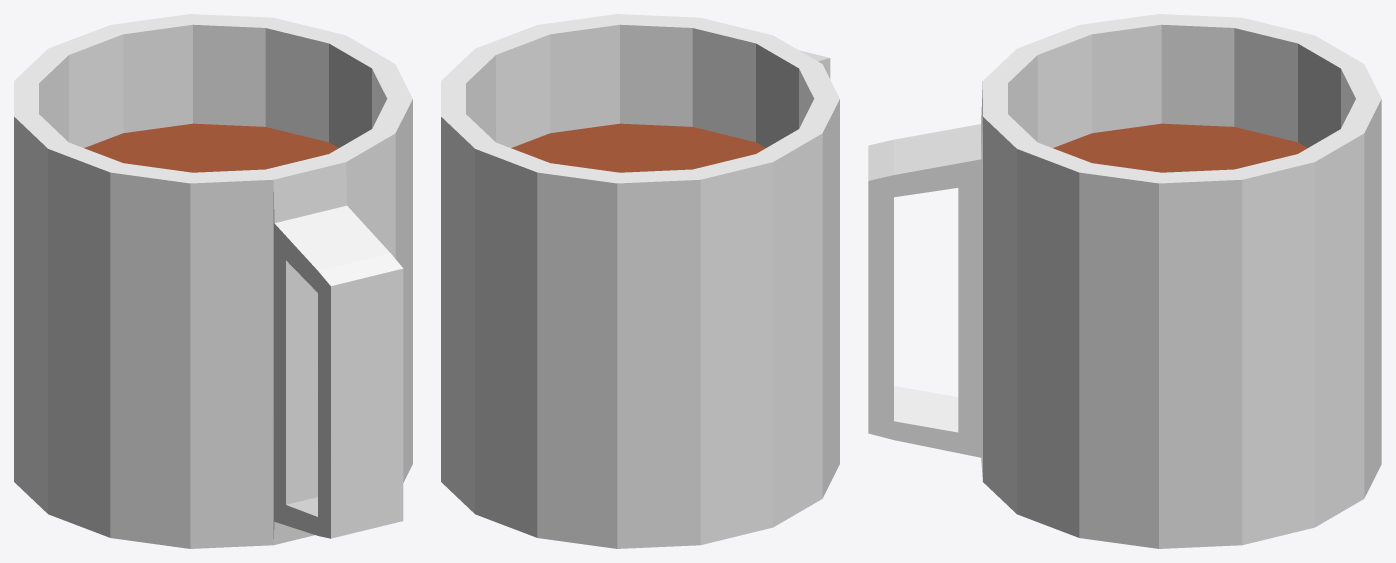
The model's file is CupCoffee.fbx.
3 views of the same model, side by side, from view 1: azimuth 30°, elevation 25°; view 2: azimuth 150°, elevation 25°; view 3: azimuth 270°, elevation 25° (orthographic).
Parts seen in each view (by area): view 1: Cup, Liquid; view 2: Cup, Liquid; view 3: Cup, Liquid.
Part boxes in pixels (x1,y1,x2,y2): Cup: [14, 14, 412, 548]; Liquid: [84, 123, 338, 172]; Cup: [441, 14, 839, 548]; Liquid: [511, 123, 765, 172]; Cup: [868, 14, 1381, 548]; Liquid: [1053, 123, 1307, 172].
Size of the model in its own units: 199 by 200 by 255.
